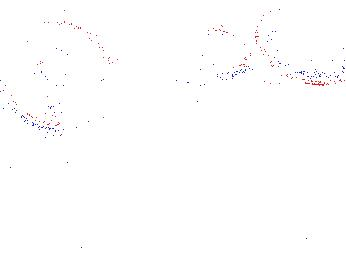moon jellyfish: (1, 21, 114, 129), (254, 1, 346, 87), (145, 1, 199, 94), (178, 29, 252, 82)
